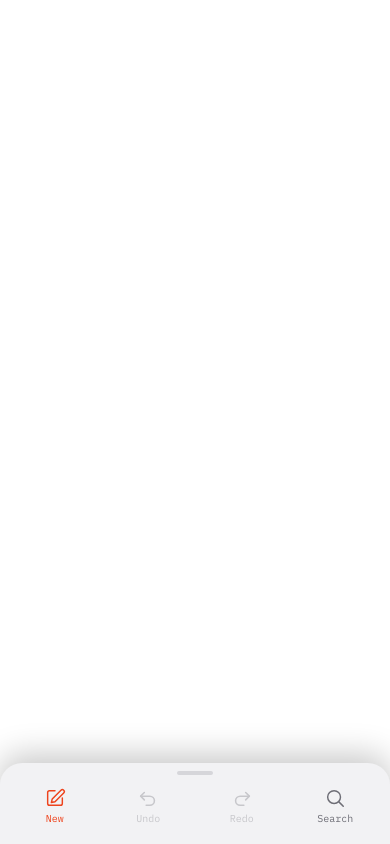
BN-2 — tap handle expands to sheet with NavContent › handle click toggles to expanded state with nav sheet
Click the button named "Expand navigation".
click(195, 771)  # box [0,763,389,779]
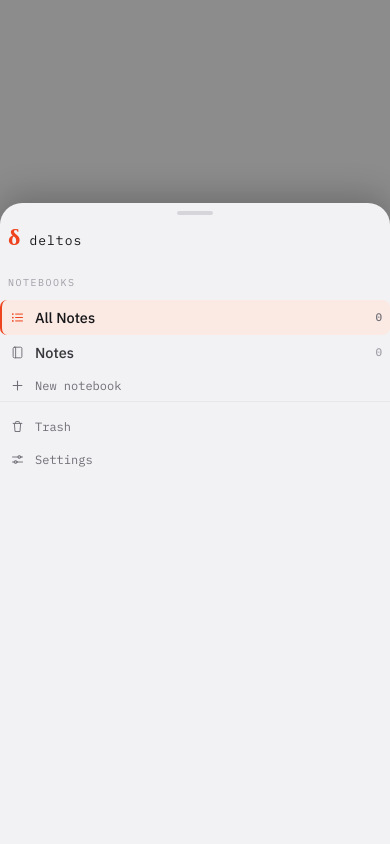
expect the element with class "bottom-nav--expanded" is shown: met
expect the element with class "bottom-nav__sheet" is shown: met, box [0,226,389,474]
expect the navigation bar with class "nav-content" is shown: met, box [0,224,389,474]
